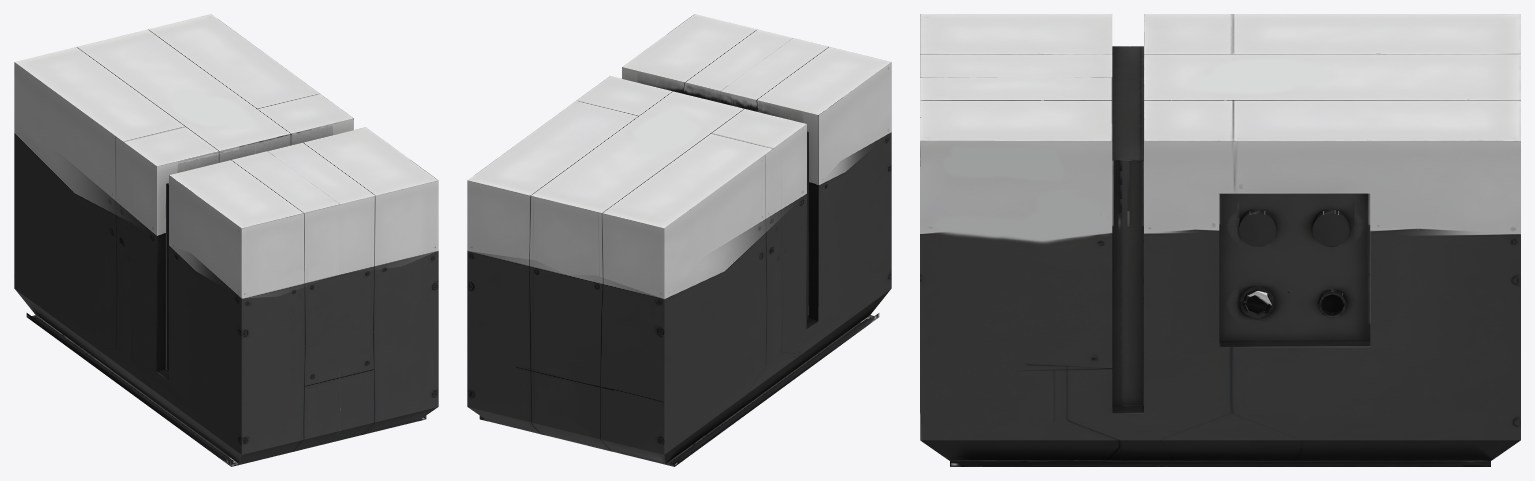
Rendered from Generator_fix.fbx.
3 views of the same model, side by side, from view 1: azimuth 30°, elevation 25°; view 2: azimuth 150°, elevation 25°; view 3: azimuth 270°, elevation 25° (orthographic). The views are drawn at different scales.
Visible parts, largest first — view 1: Mesh_0; view 2: Mesh_0; view 3: Mesh_0.
Part boxes in pixels (<box>): Mesh_0: <box>14,14,438,466</box>; Mesh_0: <box>467,14,891,466</box>; Mesh_0: <box>920,14,1520,466</box>.
Bounding box in the file's own units: 100 × 120 × 200.
1 material, 1 textured.
